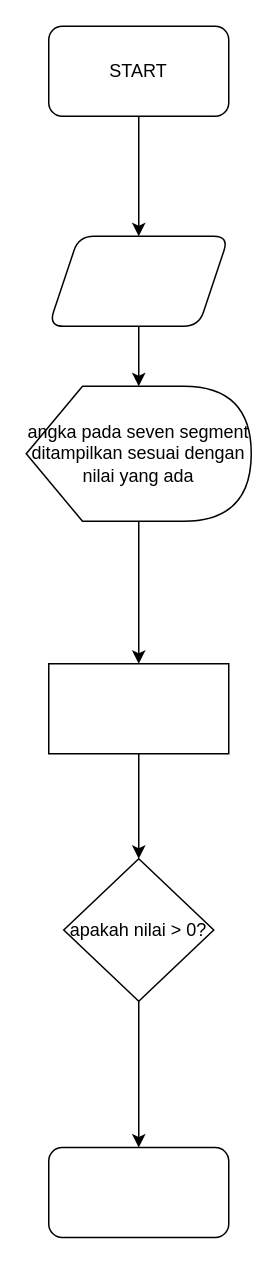
The diagram is 278 pixels wide and 1265 high, and some of its shapes have lost their labels. The shapes that lost their labels are listed below. From the top down, each one's centre as x and y in pixels, then its label:
At point (138, 280): "nilai pada seven segment diatur menjadi 20".
At point (138, 708): "nilai pada seven segment dikurang 1".
